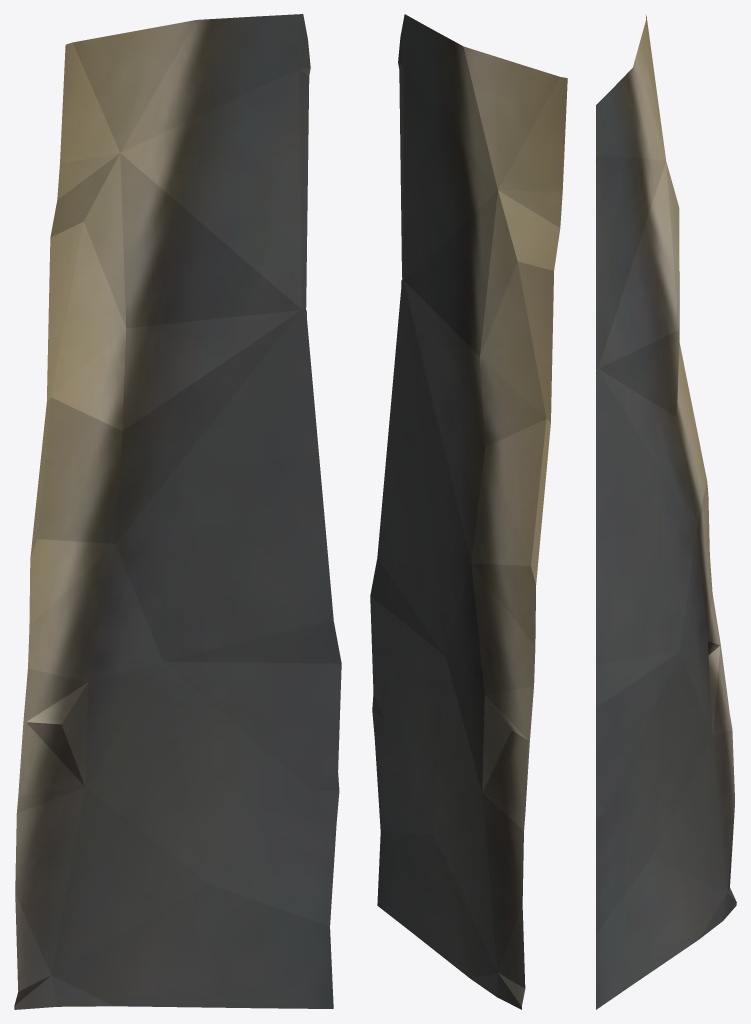
3 views of the same model, side by side, from view 1: azimuth 30°, elevation 25°; view 2: azimuth 150°, elevation 25°; view 3: azimuth 270°, elevation 25° (orthographic). The views are drawn at different scales.
Size of the model in its own units: 0.217 by 0.8374 by 0.1198.
Materials: 1 (1 with a texture image).
